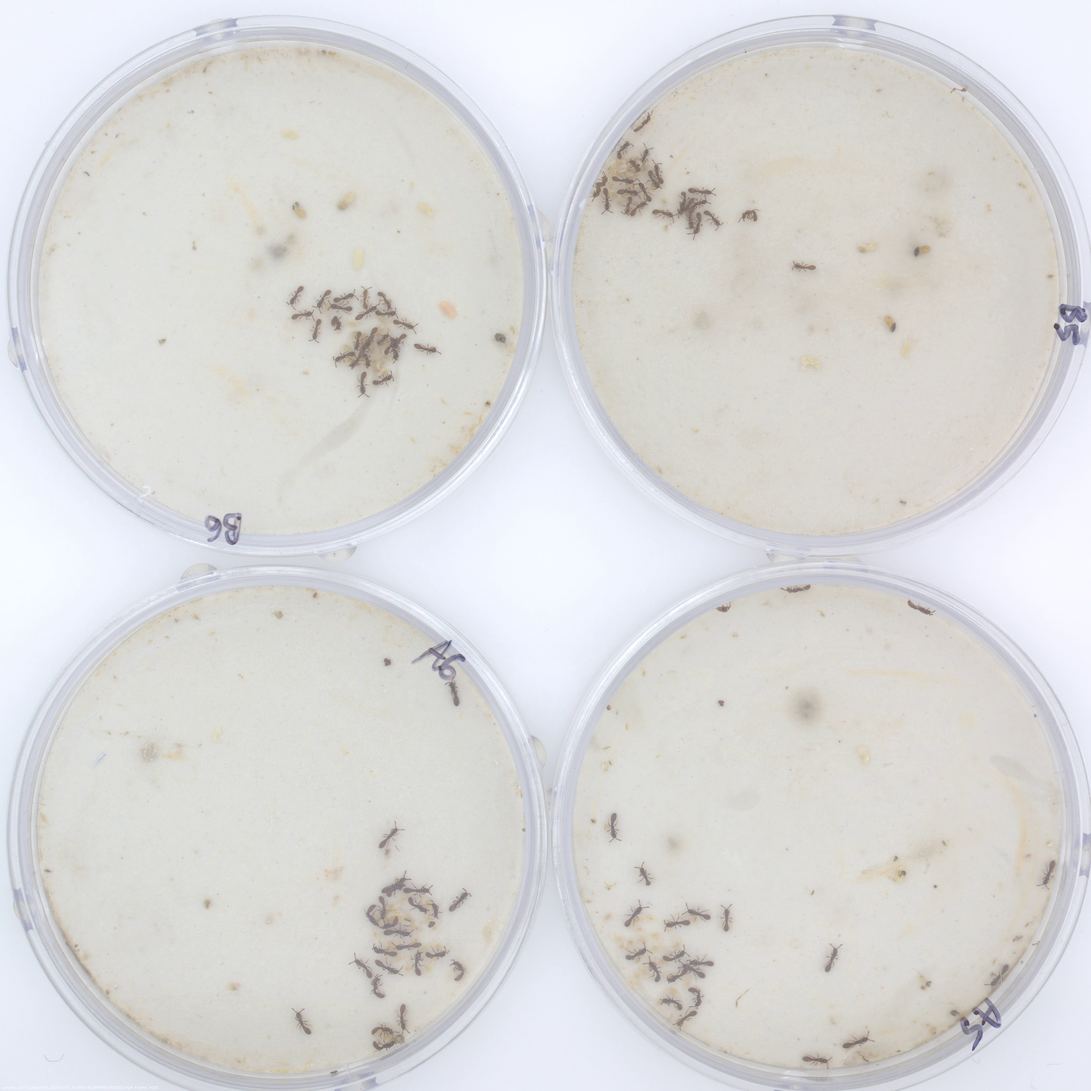brood: (340, 315, 399, 380), (599, 178, 661, 215), (374, 897, 421, 934), (610, 931, 662, 963), (628, 958, 670, 988), (606, 156, 651, 182), (383, 940, 416, 975), (416, 897, 442, 931), (425, 943, 444, 976), (628, 913, 657, 932), (413, 937, 426, 960), (602, 911, 619, 923), (344, 318, 362, 328), (682, 972, 692, 989), (670, 939, 683, 952), (685, 912, 698, 924), (373, 927, 380, 949), (650, 932, 664, 943)
